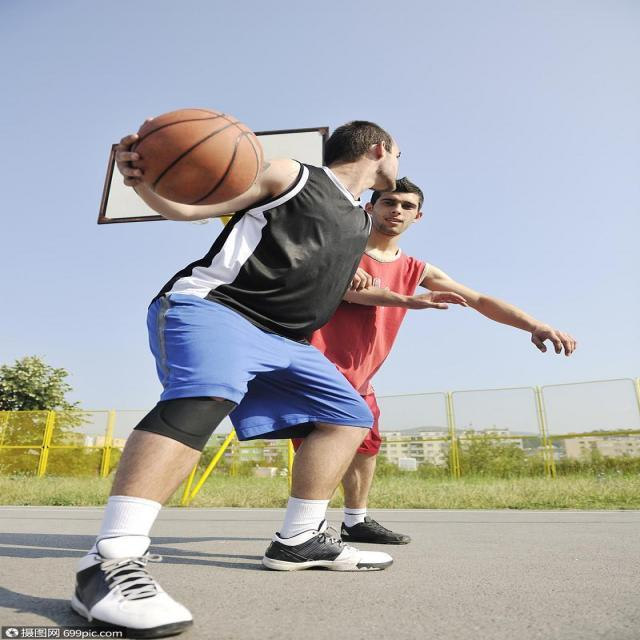rim: (130, 110, 260, 204)
